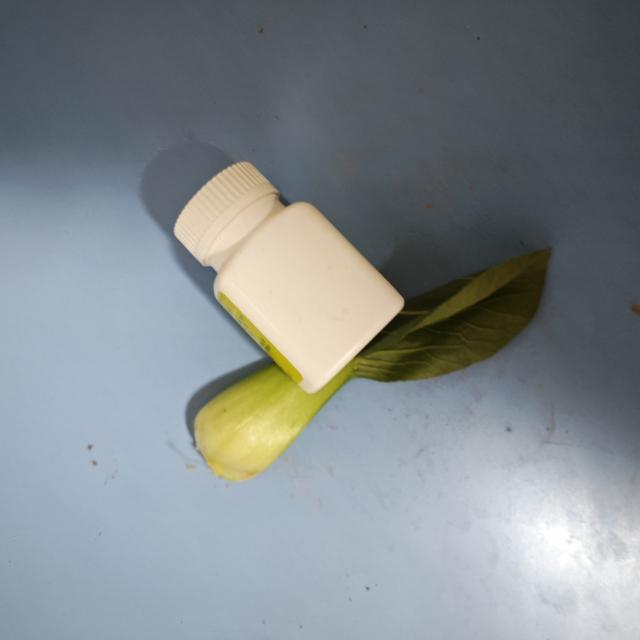-Kitchen waste - vegetable roots and leaves-: (193, 247, 555, 484)
-Recyclables - plastic bottle-: (174, 155, 406, 393)
